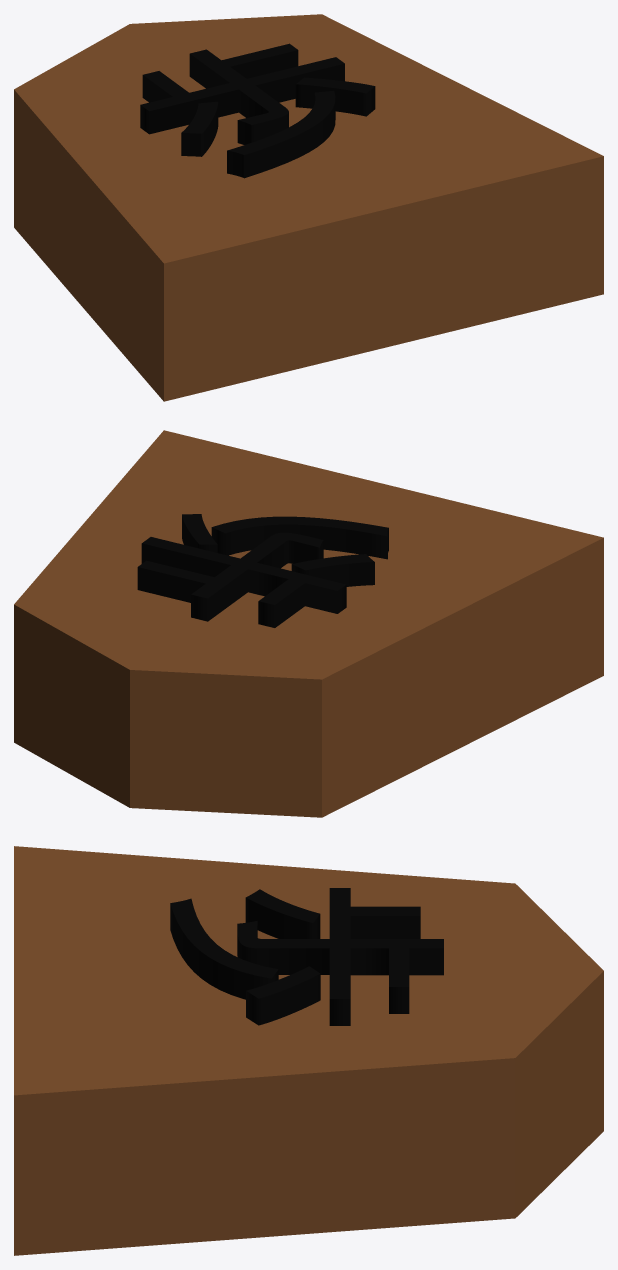
3 views of the same model, one above another, from view 1: azimuth 30°, elevation 25°; view 2: azimuth 150°, elevation 25°; view 3: azimuth 270°, elevation 25° (orthographic). The views are drawn at different scales.
Parts seen in each view (by area): view 1: Cube, テキスト; view 2: Cube, テキスト; view 3: Cube, テキスト.
Part boxes in pixels (x1,y1,x2,y2): Cube: (14, 14, 603, 401); テキスト: (140, 43, 375, 178); Cube: (14, 430, 603, 817); テキスト: (137, 514, 388, 627); Cube: (14, 846, 603, 1255); テキスト: (170, 888, 443, 1025).
Bounding box in the file's own units: 200 × 70 × 200.
